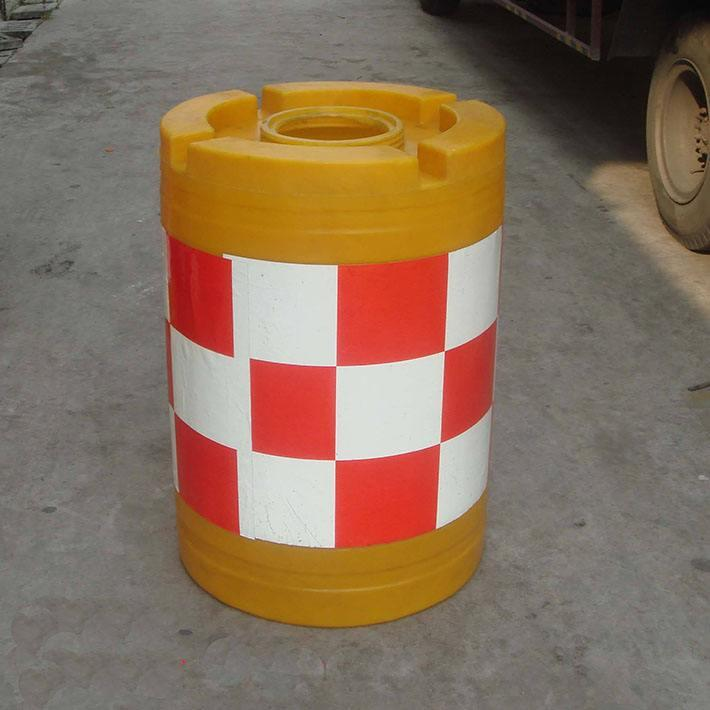sign: (130, 70, 529, 626)
